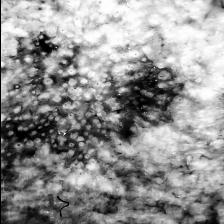Potentially Malignant Skin Tumors: (0, 21, 182, 175)
